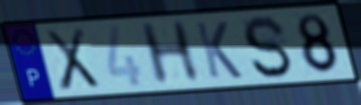4: (105, 24, 146, 89)
8: (294, 11, 342, 77)
H: (136, 19, 204, 88)
K: (193, 19, 245, 80)
S: (240, 13, 295, 80)
X: (41, 26, 103, 94)
